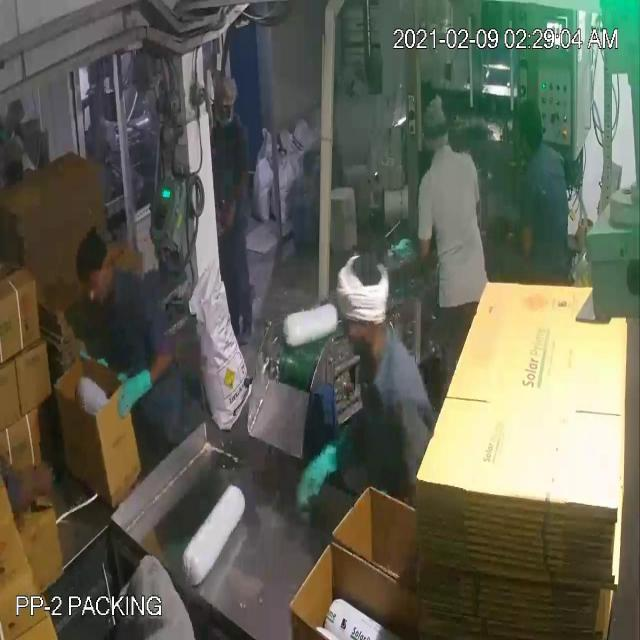Gloves: (32, 66, 323, 482)
